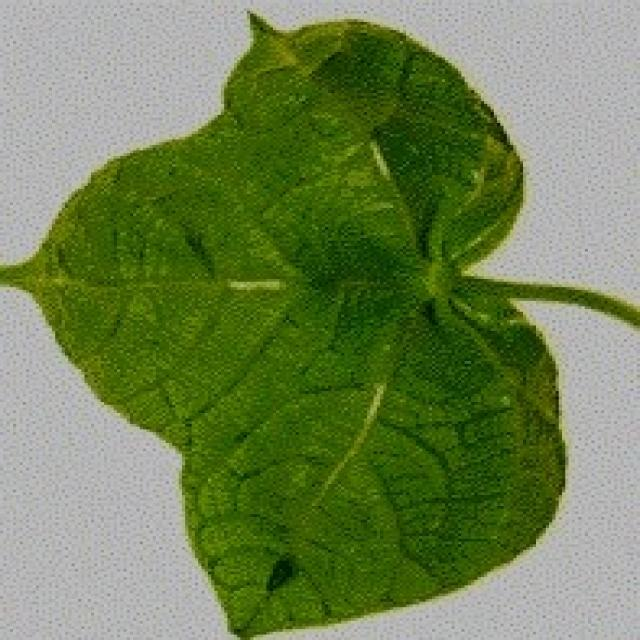Leaf Curl Virus: (129, 118, 491, 569)
